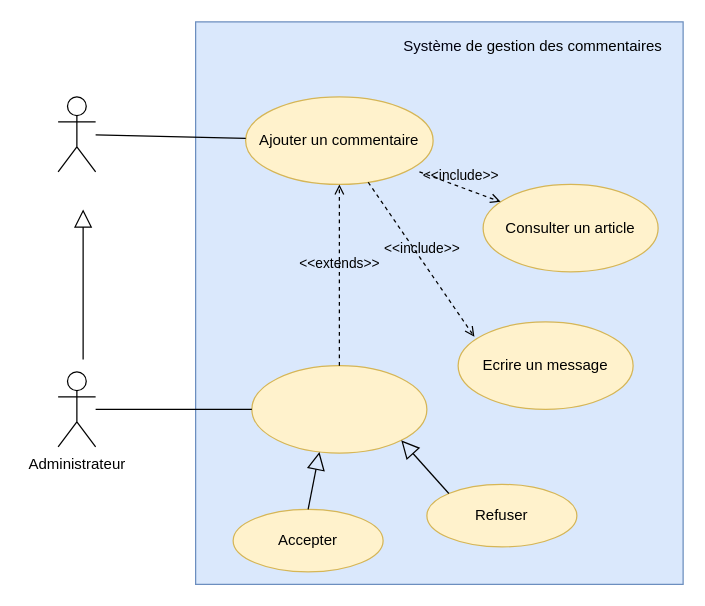
Image size: 705x606. Some labels were removed from this diagram. Each missing label, with the centre of its shape:
Utilisateur inscrit: pixel 76 134
Valider le commentaire: pixel 339 408
